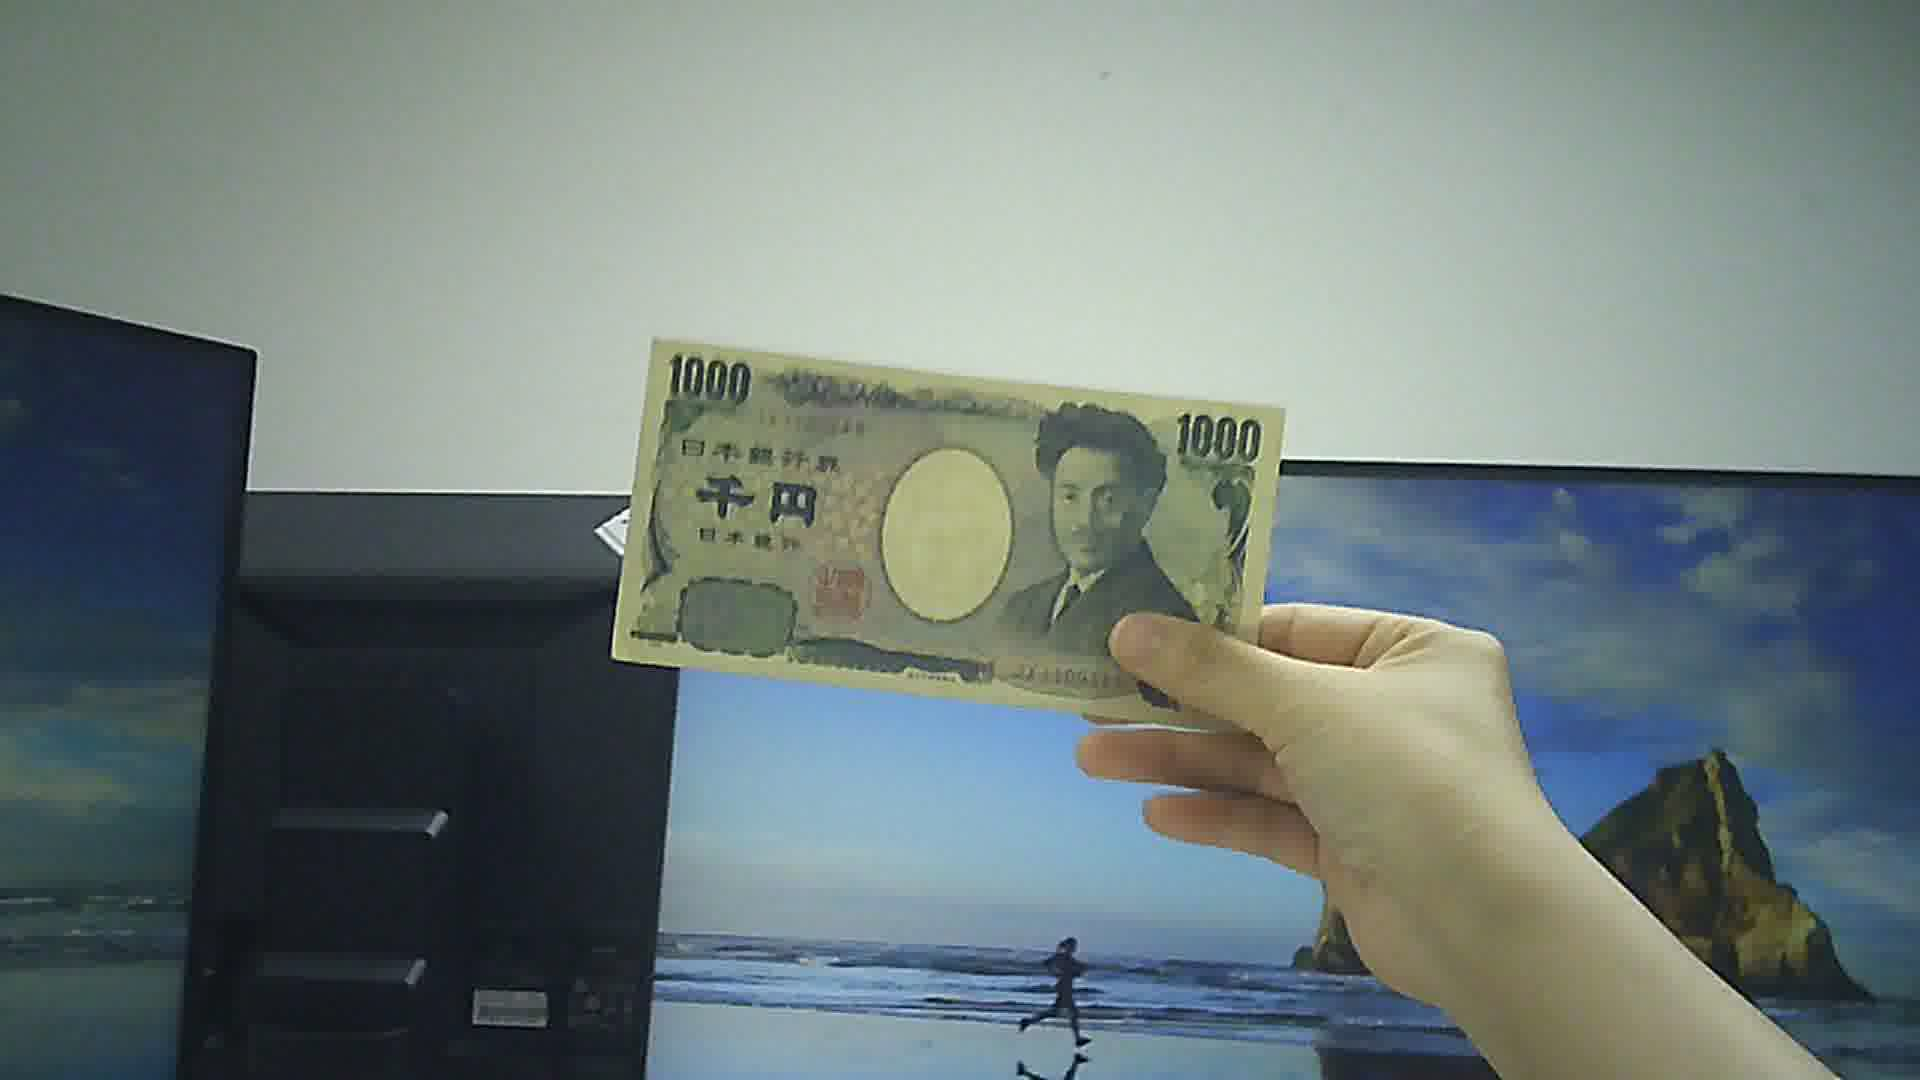1,000 Yen: (637, 327, 1279, 727)
